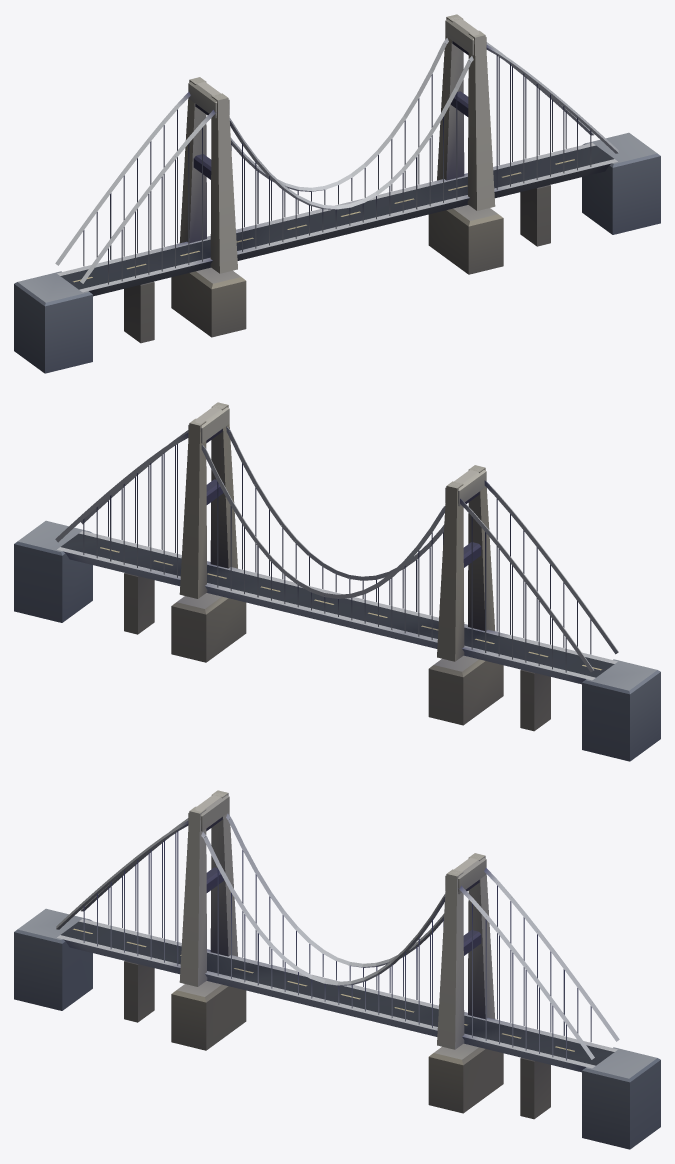
Rendered from puente_angostura.glb.
The picture shows the model from 3 angles, top to bottom: view 1: azimuth 30°, elevation 25°; view 2: azimuth 150°, elevation 25°; view 3: azimuth 330°, elevation 25°; orthographic projection.
Parts seen in each view (by area): view 1: puente_tablero, pilonos, cables, pilas; view 2: puente_tablero, pilonos, cables, pilas; view 3: puente_tablero, pilonos, cables, pilas.
Boxes of the visible parts, box(x1,y1,x2,y2) form: puente_tablero: box(14, 132, 660, 373); pilonos: box(179, 14, 495, 273); cables: box(55, 38, 618, 284); pilas: box(124, 185, 550, 343); puente_tablero: box(14, 520, 660, 761); pilonos: box(179, 402, 495, 661); cables: box(55, 426, 618, 672); pilas: box(124, 573, 550, 731); puente_tablero: box(14, 908, 660, 1149); pilonos: box(179, 790, 495, 1049); cables: box(56, 814, 619, 1060); pilas: box(124, 961, 550, 1119).
Bounding box in the file's own units: 115 × 41 × 13.
